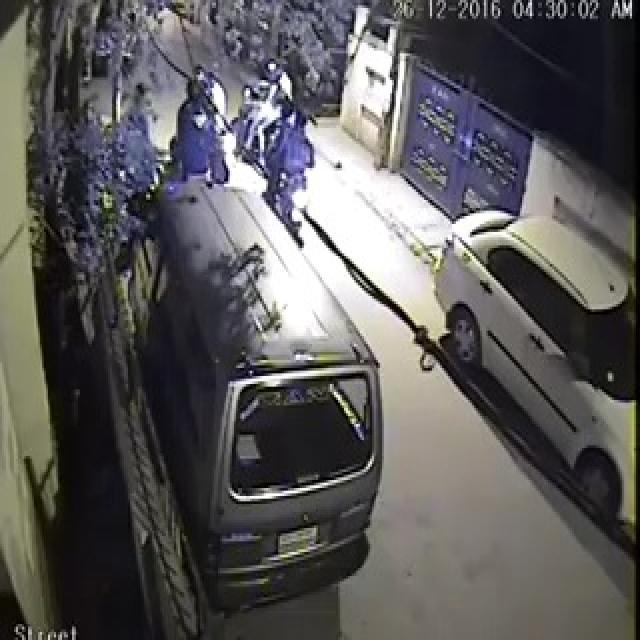Shoplifting: (142, 36, 349, 252)
